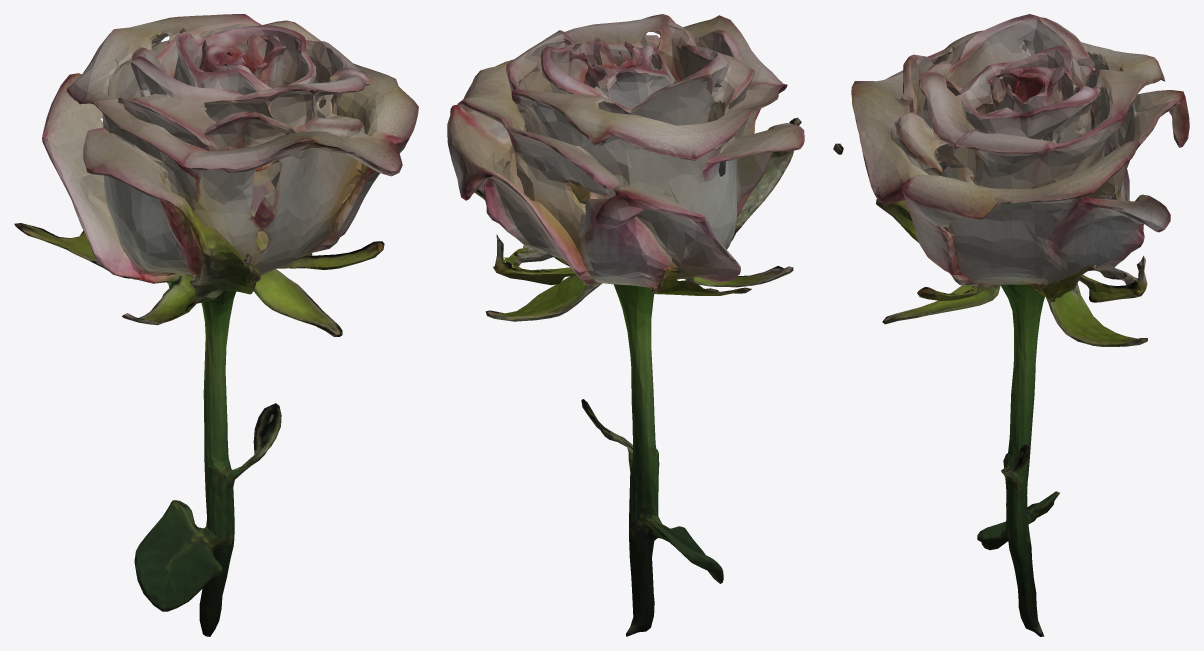
3 views of the same model, side by side, from view 1: azimuth 30°, elevation 25°; view 2: azimuth 150°, elevation 25°; view 3: azimuth 270°, elevation 25° (orthographic). The views are drawn at different scales.
Parts seen in each view (by area): view 1: world; view 2: world; view 3: world.
Boxes of the visible parts, left/top/right/bottom form: world: left=14, top=14, right=418, bottom=636; world: left=447, top=14, right=804, bottom=636; world: left=833, top=14, right=1189, bottom=636.
Size of the model in its own units: 0.5459 by 0.9373 by 0.5163.
1 material, 1 textured.
